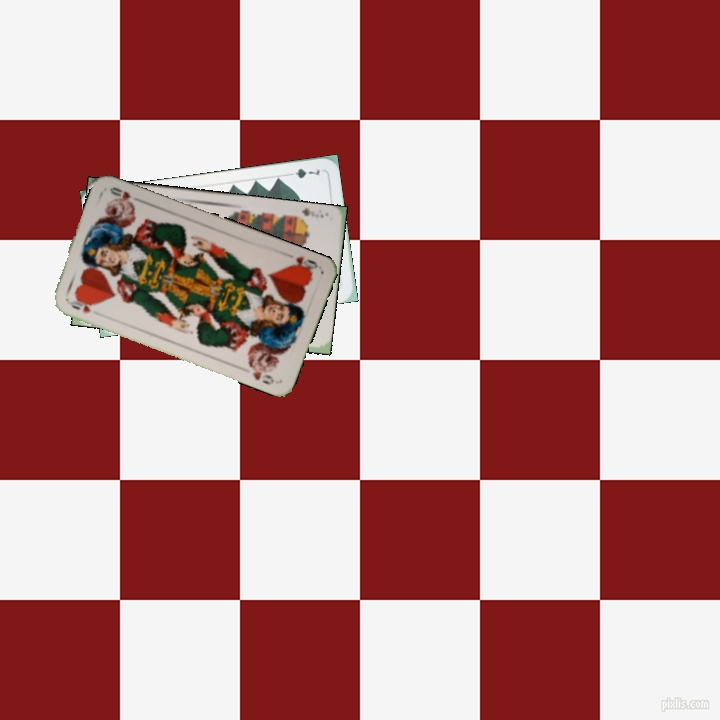G7: (283, 164, 322, 181)
HO: (285, 252, 320, 276), (63, 293, 98, 315)
S9: (298, 205, 326, 221)
